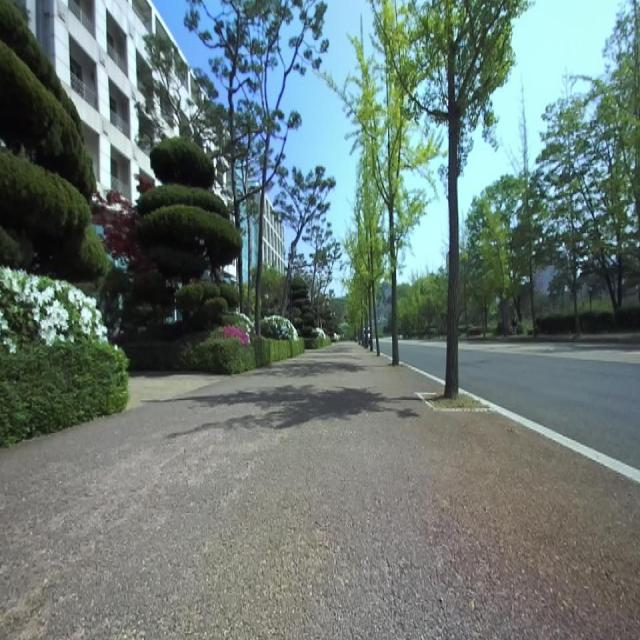sidewalk: (0, 342, 640, 638), (460, 388, 640, 482), (401, 361, 445, 384)
